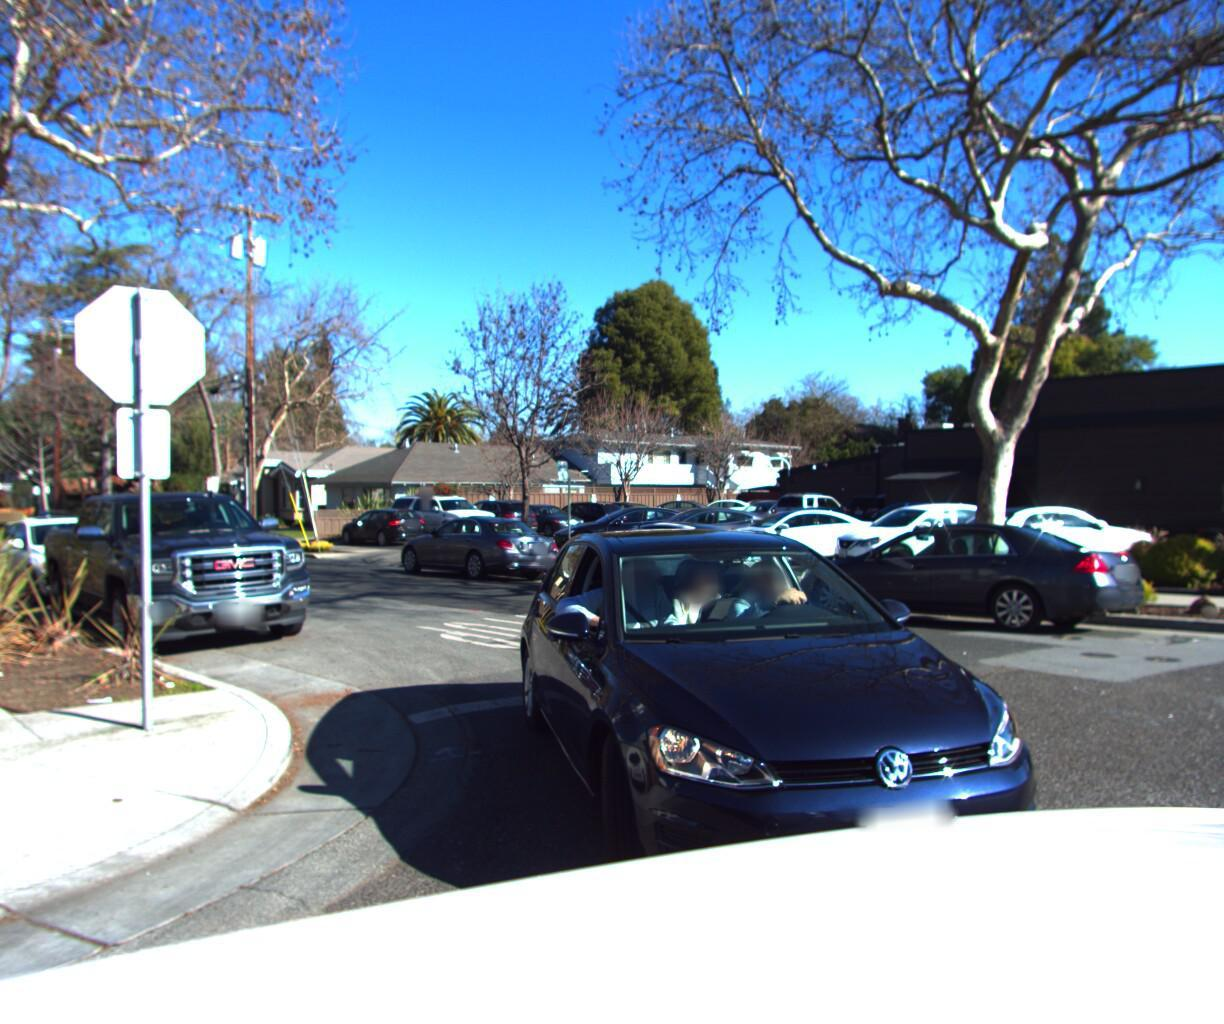car: (499, 504, 1187, 1024), (22, 483, 334, 675), (812, 508, 1166, 647), (551, 508, 814, 614), (924, 497, 1182, 578), (0, 507, 169, 611), (821, 496, 1038, 568), (390, 508, 573, 581), (693, 498, 894, 561), (607, 501, 793, 558), (551, 500, 714, 552), (381, 492, 505, 543), (442, 495, 543, 538), (19, 507, 86, 537)
